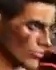kevin: (5, 0, 55, 69)
